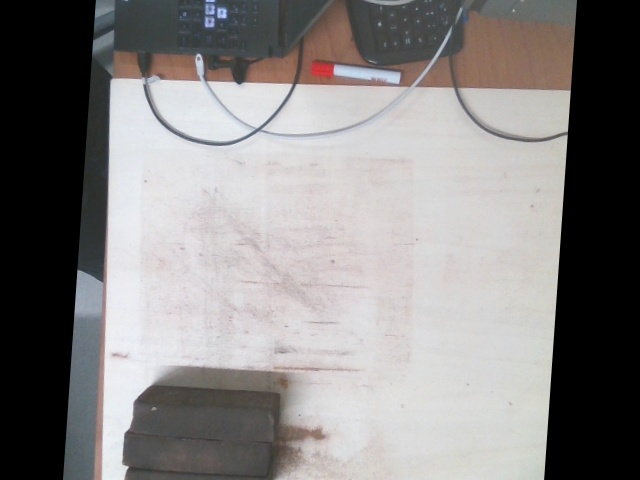brick-side: (124, 433, 266, 476), (131, 400, 272, 443), (123, 469, 264, 479)
